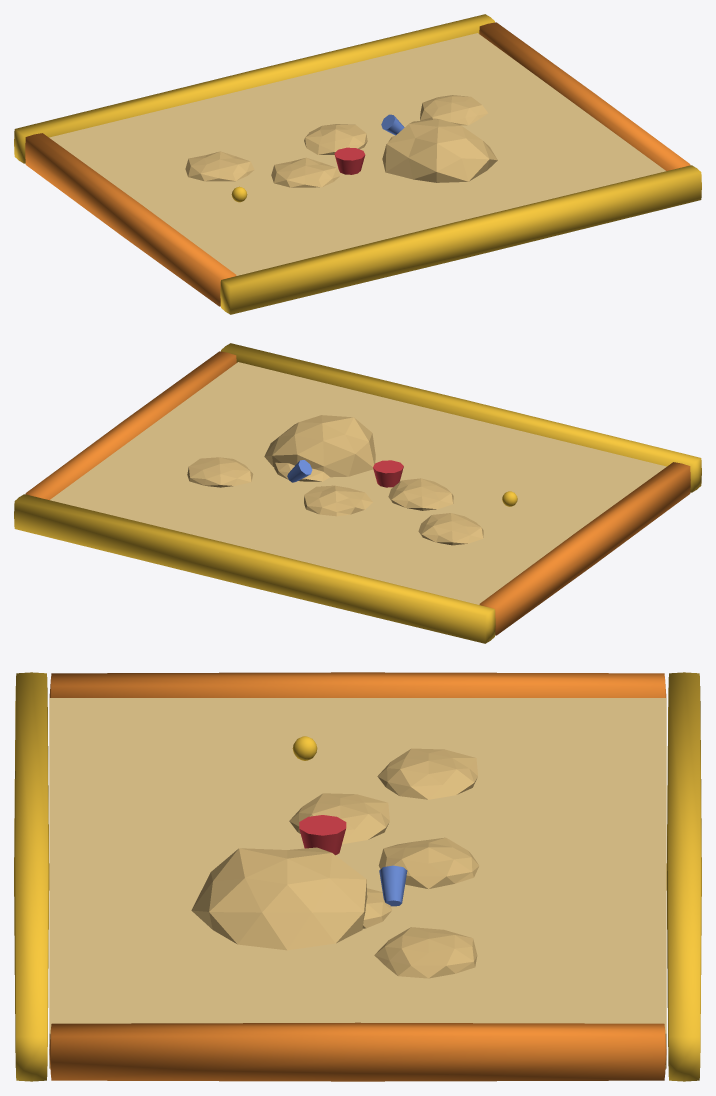
Rendered from sand_pit.glb.
3 renders of one model, top to bottom at view 1: azimuth 30°, elevation 25°; view 2: azimuth 150°, elevation 25°; view 3: azimuth 270°, elevation 25°, orthographic. The views are drawn at different scales.
Parts seen in each view (by area): view 1: root; view 2: root; view 3: root.
Part boxes in pixels (left/top/right/bottom): root: left=14, top=14, right=701, bottom=314; root: left=14, top=343, right=701, bottom=643; root: left=14, top=672, right=701, bottom=1081.
Bounding box in the file's own units: 4.9 × 0.6425 × 3.9.
